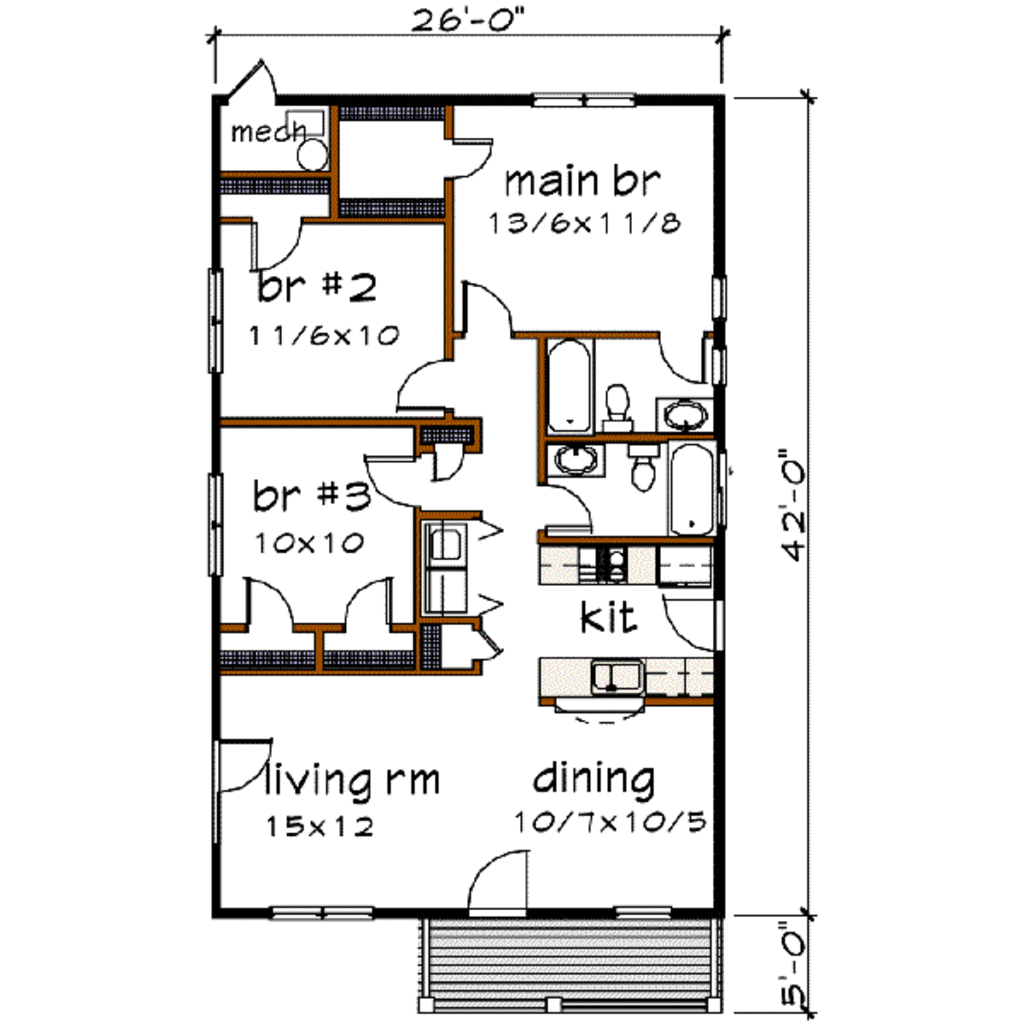door: (458, 846, 539, 919), (214, 735, 294, 796), (659, 591, 731, 653), (328, 572, 400, 628), (217, 53, 291, 107), (530, 477, 598, 535), (245, 214, 309, 274), (239, 577, 308, 632), (389, 357, 459, 410), (459, 278, 517, 341), (355, 455, 420, 510), (448, 138, 502, 185), (661, 327, 703, 383), (428, 439, 467, 485), (472, 619, 503, 660)
large_sink: (623, 439, 659, 508), (600, 378, 641, 433)
small_sink: (648, 396, 713, 433), (542, 438, 608, 474)
tub: (542, 335, 597, 435), (670, 444, 717, 538)
twin_sink: (577, 646, 663, 707)
window: (259, 894, 386, 927), (536, 88, 636, 108), (205, 267, 223, 367), (209, 477, 225, 575), (706, 264, 727, 319), (609, 902, 673, 919)
